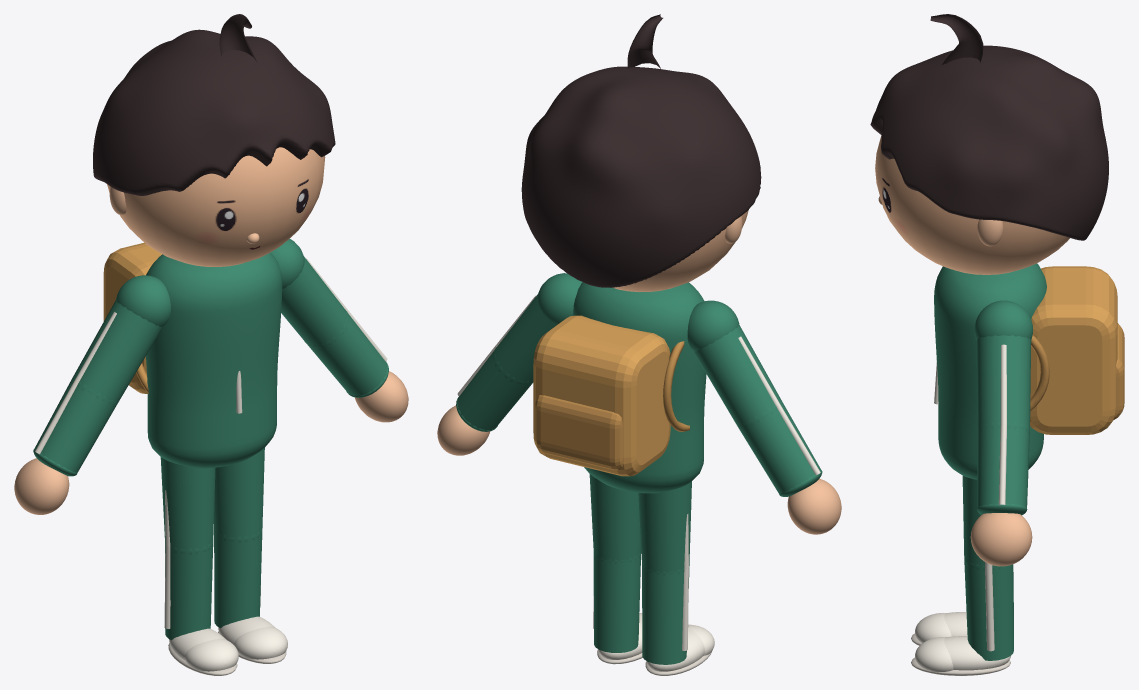
Rendered from qing_teen.glb.
The picture shows the model from 3 angles, left to right: view 1: azimuth 30°, elevation 25°; view 2: azimuth 150°, elevation 25°; view 3: azimuth 270°, elevation 25°; orthographic projection. The views are drawn at different scales.
Visible parts, largest first — view 1: hair, torso, head, upper_arm_R, pelvis, upper_arm_L, thigh_R, lower_arm_R, shin_R, shin_L, thigh_L, lower_arm_L (+4 smaller); view 2: hair, torso, upper_arm_R, upper_arm_L, shin_L, shin_R, thigh_R, lower_arm_R, thigh_L, lower_arm_L, pelvis, head (+4 smaller); view 3: hair, torso, head, upper_arm_L, lower_arm_L, shin_L, hand_L, shoe_L, pelvis, shoe_R, thigh_L.
Part boxes in pixels (x1,y1,x2,y2): hair: (93, 14, 335, 195); torso: (103, 242, 282, 423); head: (107, 147, 325, 266); upper_arm_R: (71, 275, 170, 405); pelvis: (147, 395, 276, 468); upper_arm_L: (270, 238, 349, 348); thigh_R: (160, 457, 215, 554); lower_arm_R: (33, 378, 116, 476); shin_R: (164, 543, 213, 640); shin_L: (214, 531, 262, 628); thigh_L: (214, 448, 264, 542); lower_arm_L: (308, 308, 388, 397); hair: (521, 14, 761, 287); torso: (533, 282, 706, 476); upper_arm_R: (687, 300, 783, 429); upper_arm_L: (493, 273, 582, 385); shin_L: (593, 553, 640, 652); shin_R: (642, 564, 689, 664); thigh_R: (638, 481, 691, 575); lower_arm_R: (739, 402, 822, 496); thigh_L: (589, 474, 641, 563); lower_arm_L: (456, 345, 533, 431); pelvis: (584, 432, 703, 493); head: (613, 210, 748, 291); hair: (870, 14, 1108, 240); torso: (934, 263, 1124, 437); head: (875, 135, 1069, 274); upper_arm_L: (974, 300, 1032, 431); lower_arm_L: (977, 424, 1029, 515); shin_L: (964, 559, 1013, 660); hand_L: (970, 513, 1032, 566); shoe_L: (911, 636, 1011, 675); pelvis: (938, 411, 1043, 479); shoe_R: (911, 612, 967, 645); thigh_L: (962, 476, 1004, 570).
Size of the model in its own units: 1.08 by 1.69 by 0.6012.
9 materials, 1 textured.
